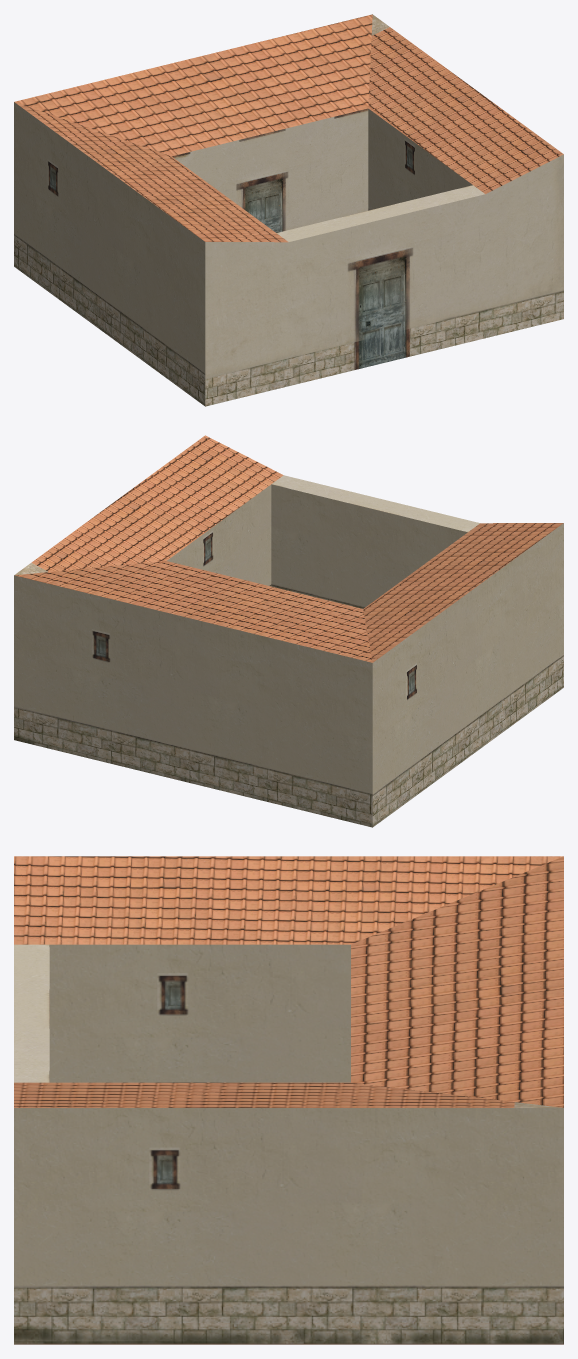
The model's file is romhouse4.fbx.
3 renders of one model, top to bottom at view 1: azimuth 30°, elevation 25°; view 2: azimuth 150°, elevation 25°; view 3: azimuth 270°, elevation 25°, orthographic. The views are drawn at different scales.
Parts seen in each view (by area): view 1: Model; view 2: Model; view 3: Model.
Part boxes in pixels (bbox=[...]): Model: bbox=[14, 14, 563, 406]; Model: bbox=[14, 435, 563, 827]; Model: bbox=[14, 856, 563, 1344].
Bounding box in the file's own units: 7465 × 3276 × 6894.
